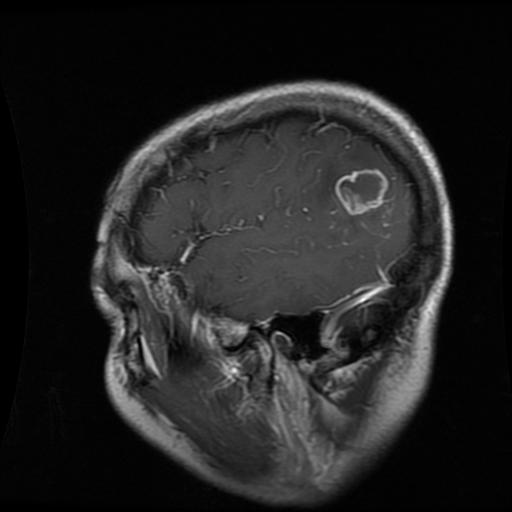Gliomia_tumour: (332, 165, 387, 214)
